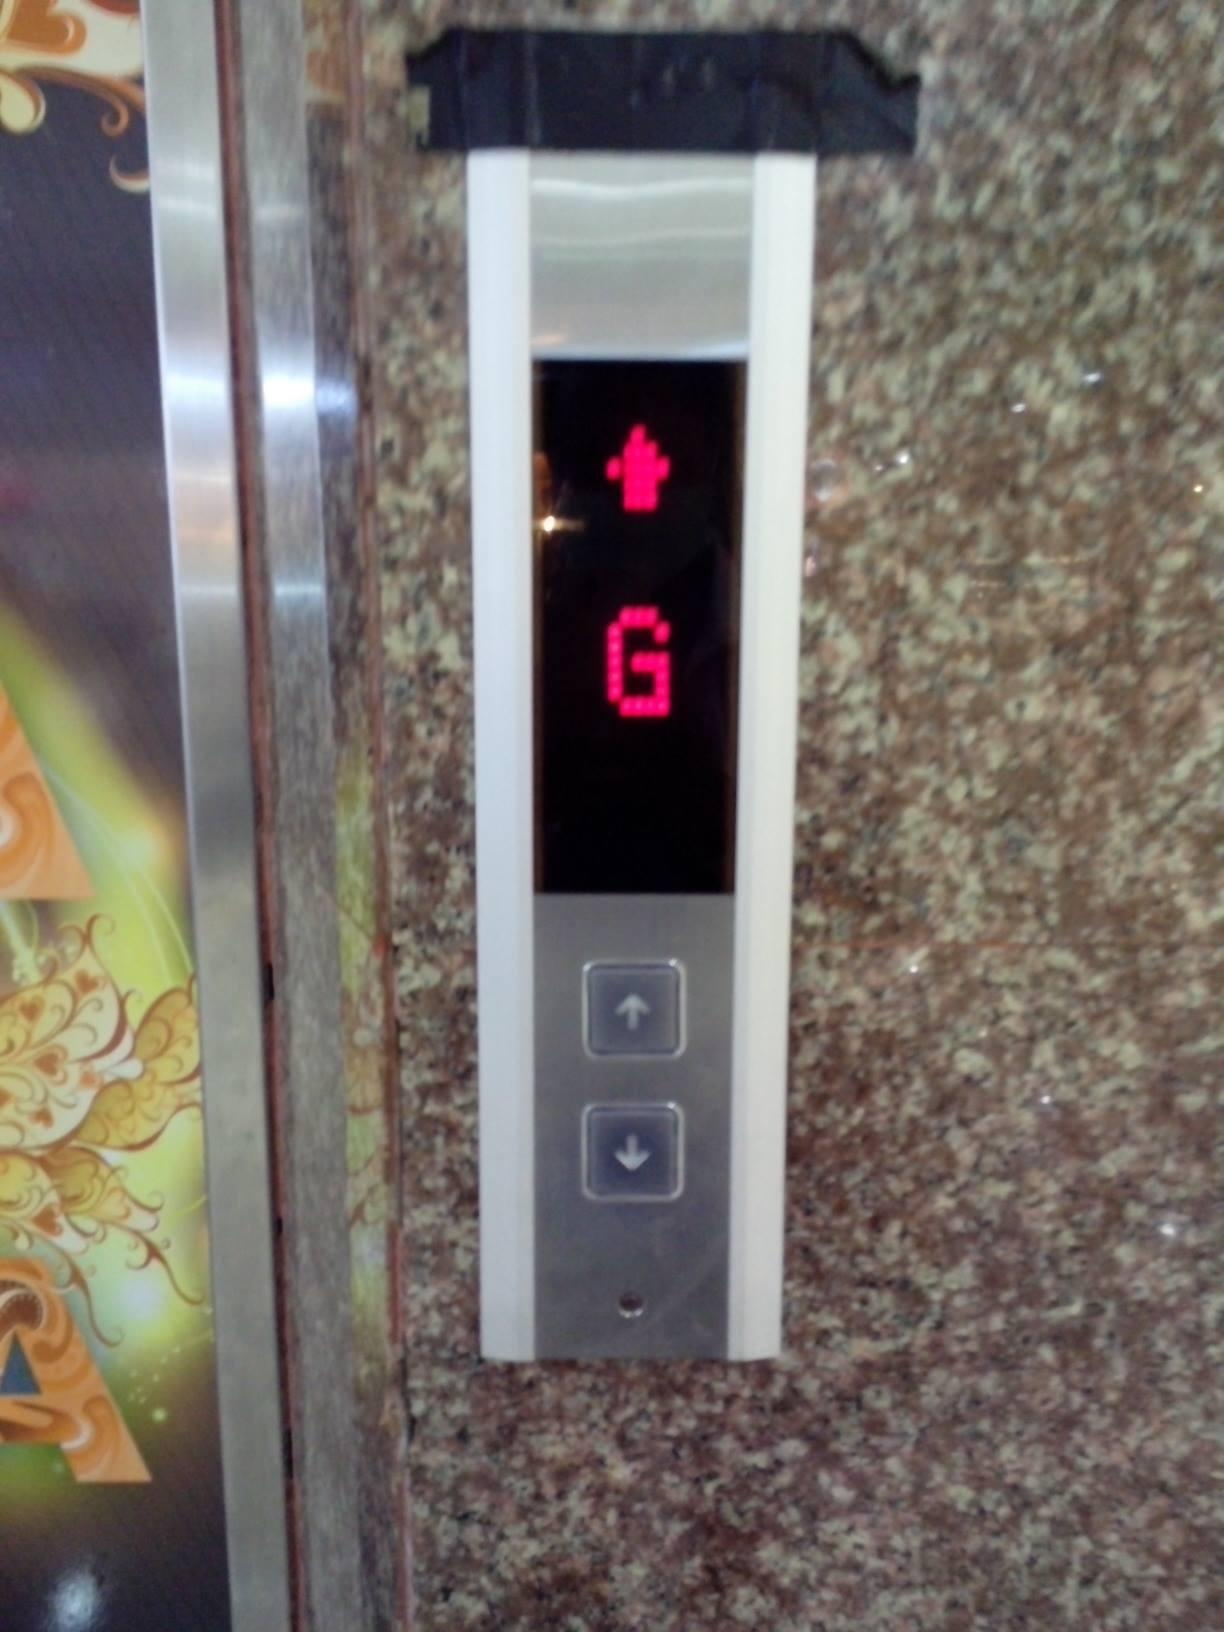down: (576, 1091, 692, 1213)
led: (519, 342, 753, 901)
up: (575, 948, 690, 1070)
